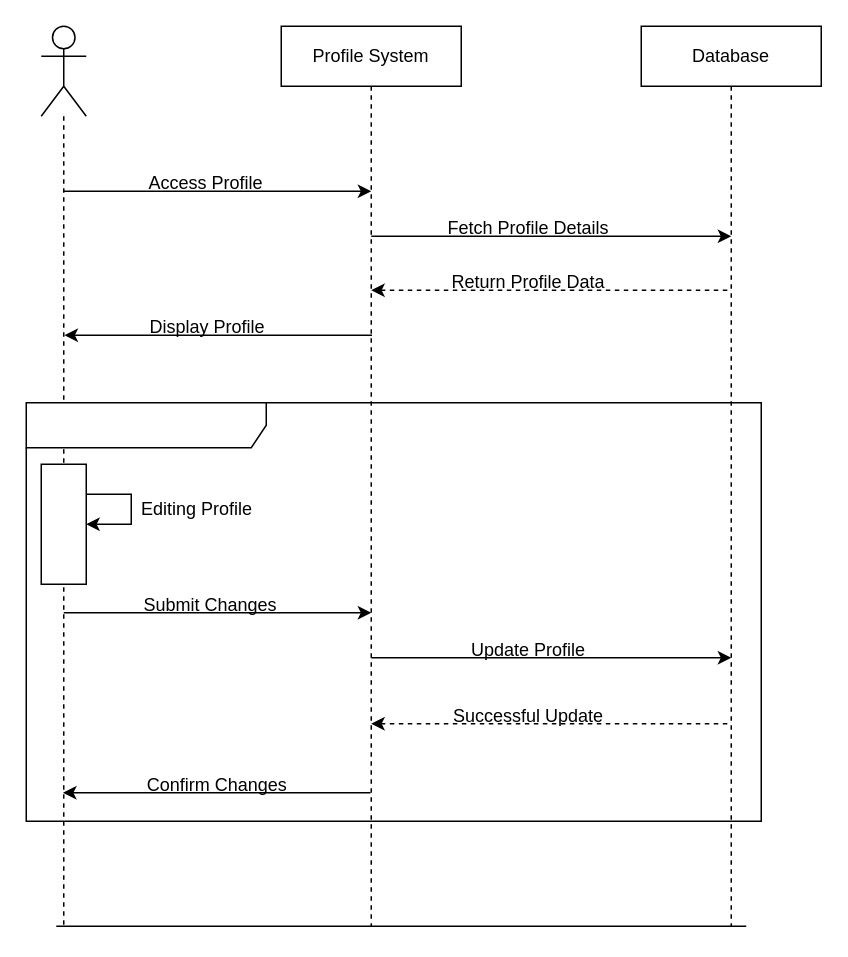
Image size: 848x957. Some labels were removed from this diagram. Here are the shapes that lost their labels. From the top down, the centre of each, then its label:
the point at 63,70: user
the point at 393,611: alt
